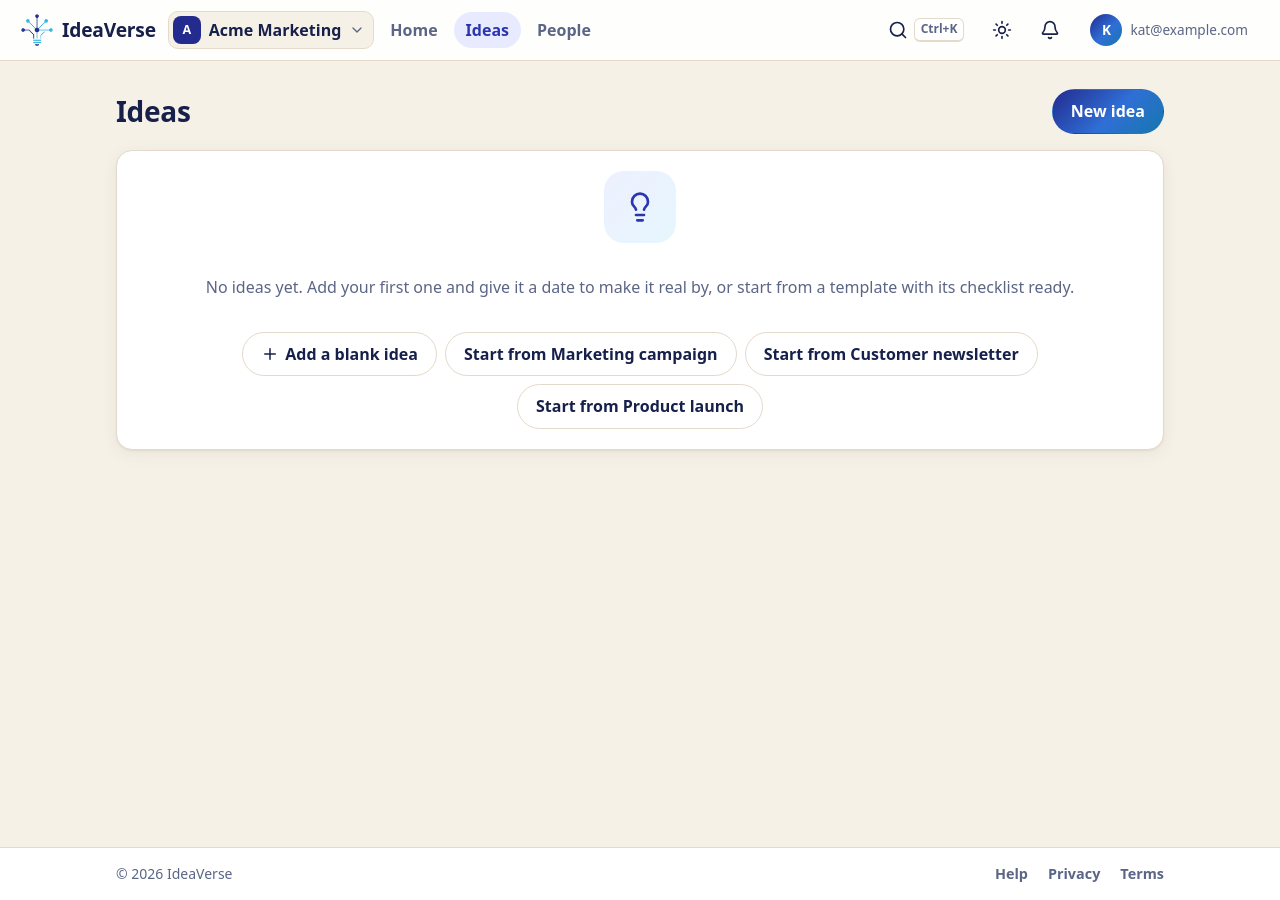
Test: Workspace menu › lists each workspace with the user’s role, checks the current one, and sets New workspace apart
What coordinates should you click on to do the following:
click the button with aria-label "Workspace: Acme Marketing"
I would click on:
 (271, 30)
Its box is [168,11,374,49].
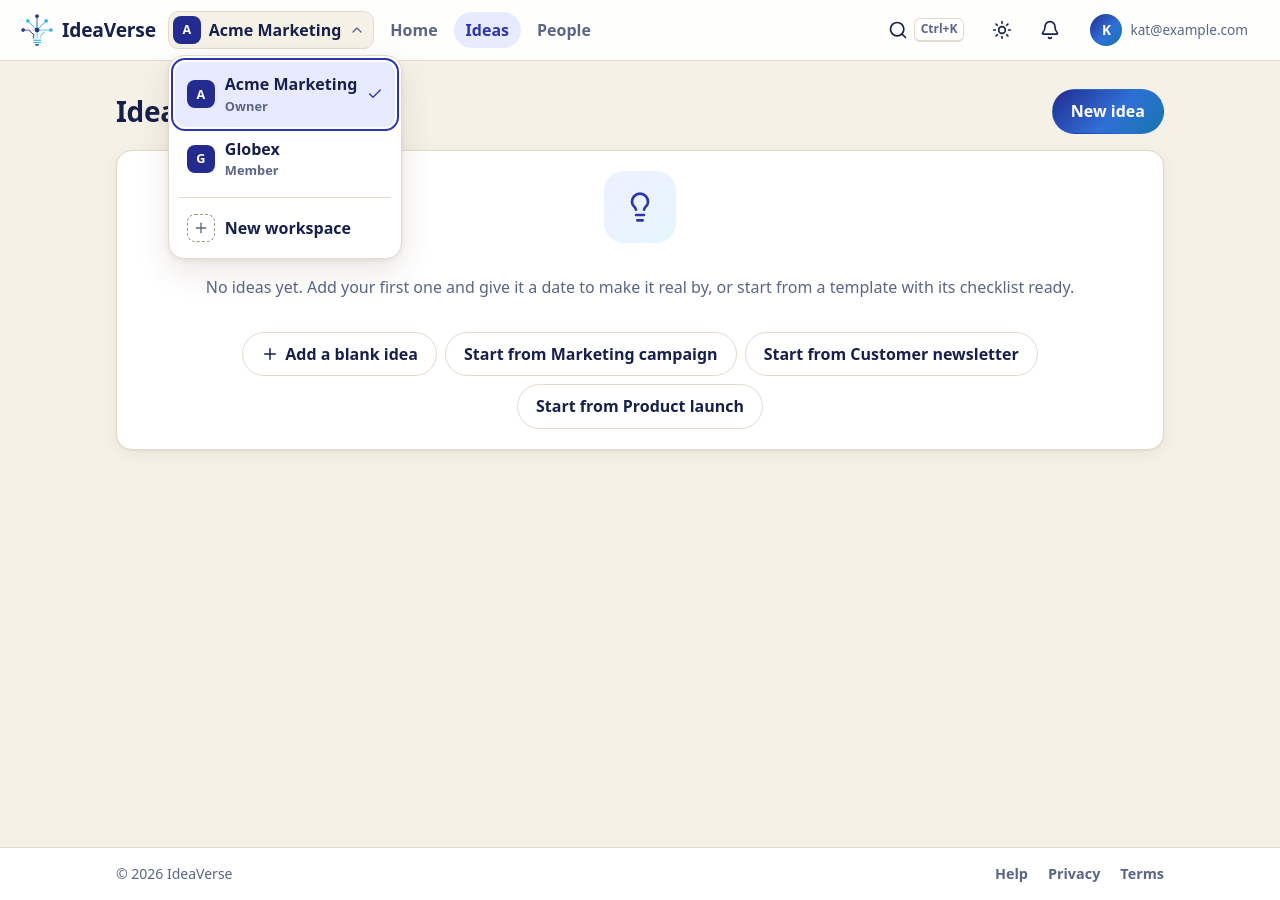
Expected: the menu item "New workspace" is shown, [175,204,395,252]
